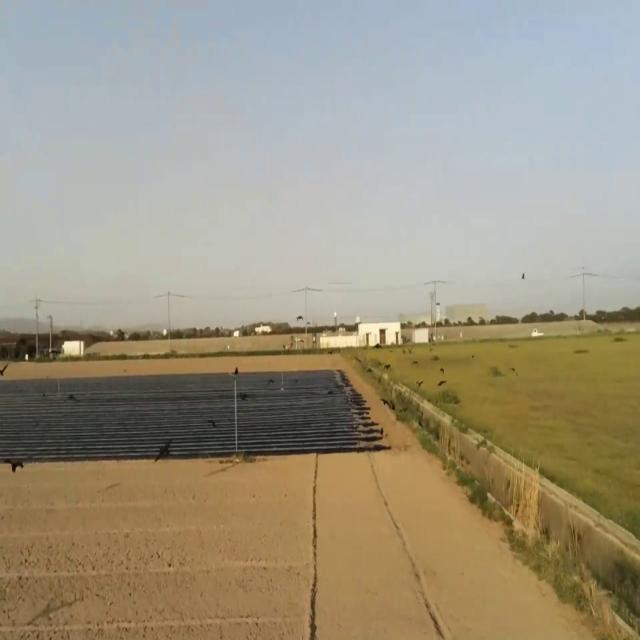bird: (156, 433, 175, 458), (8, 456, 24, 478), (0, 361, 9, 378), (208, 415, 218, 430), (233, 426, 241, 441), (383, 360, 392, 370)
